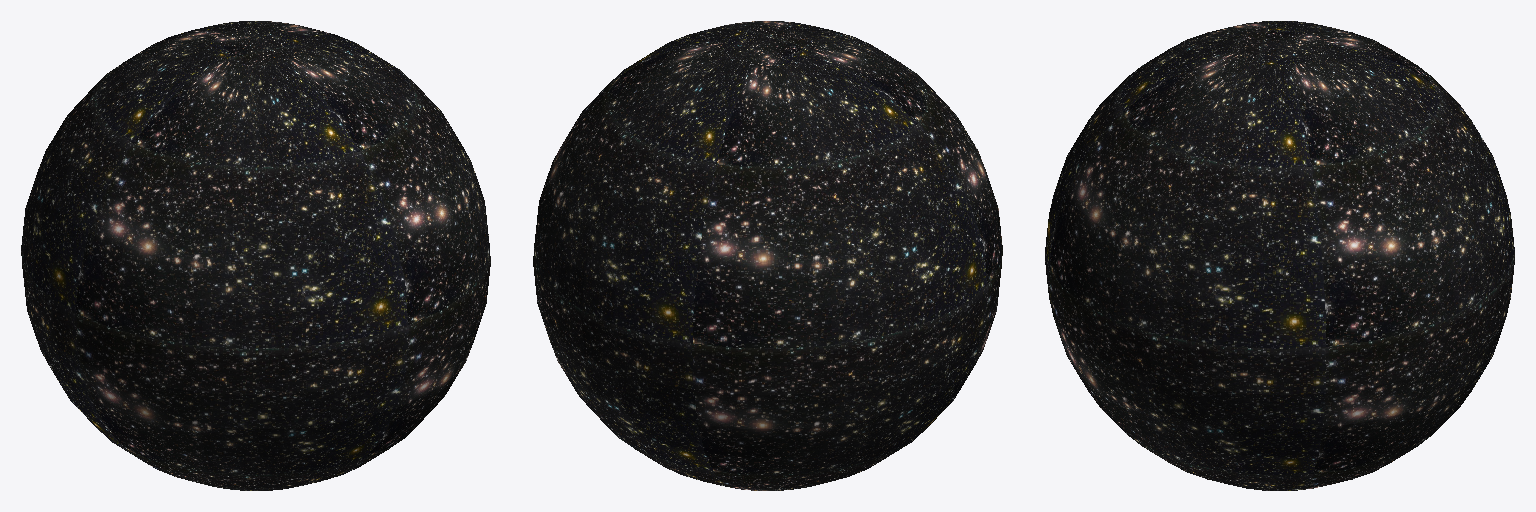
The picture shows the model from 3 angles: view 1: azimuth 30°, elevation 25°; view 2: azimuth 150°, elevation 25°; view 3: azimuth 270°, elevation 25°; orthographic projection.
Parts seen in each view (by area): view 1: Cube; view 2: Cube; view 3: Cube.
Part boxes in pixels (left/top/right/bottom): Cube: left=21, top=21, right=490, bottom=490; Cube: left=533, top=21, right=1002, bottom=490; Cube: left=1045, top=21, right=1514, bottom=490.
Bounding box in the file's own units: 100 × 100 × 100.
1 materials, 1 textured.